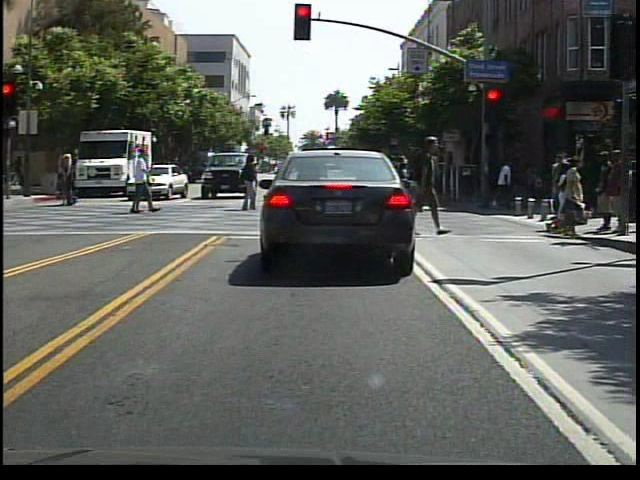person: (406, 130, 453, 227), (544, 154, 593, 245), (125, 150, 161, 224), (551, 153, 576, 225), (58, 151, 81, 213), (233, 156, 257, 213), (498, 155, 516, 219)
